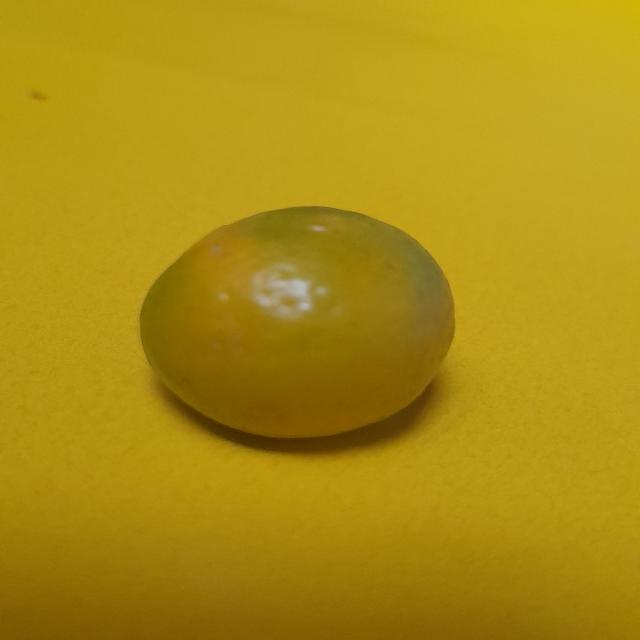greening: (132, 203, 482, 442)
